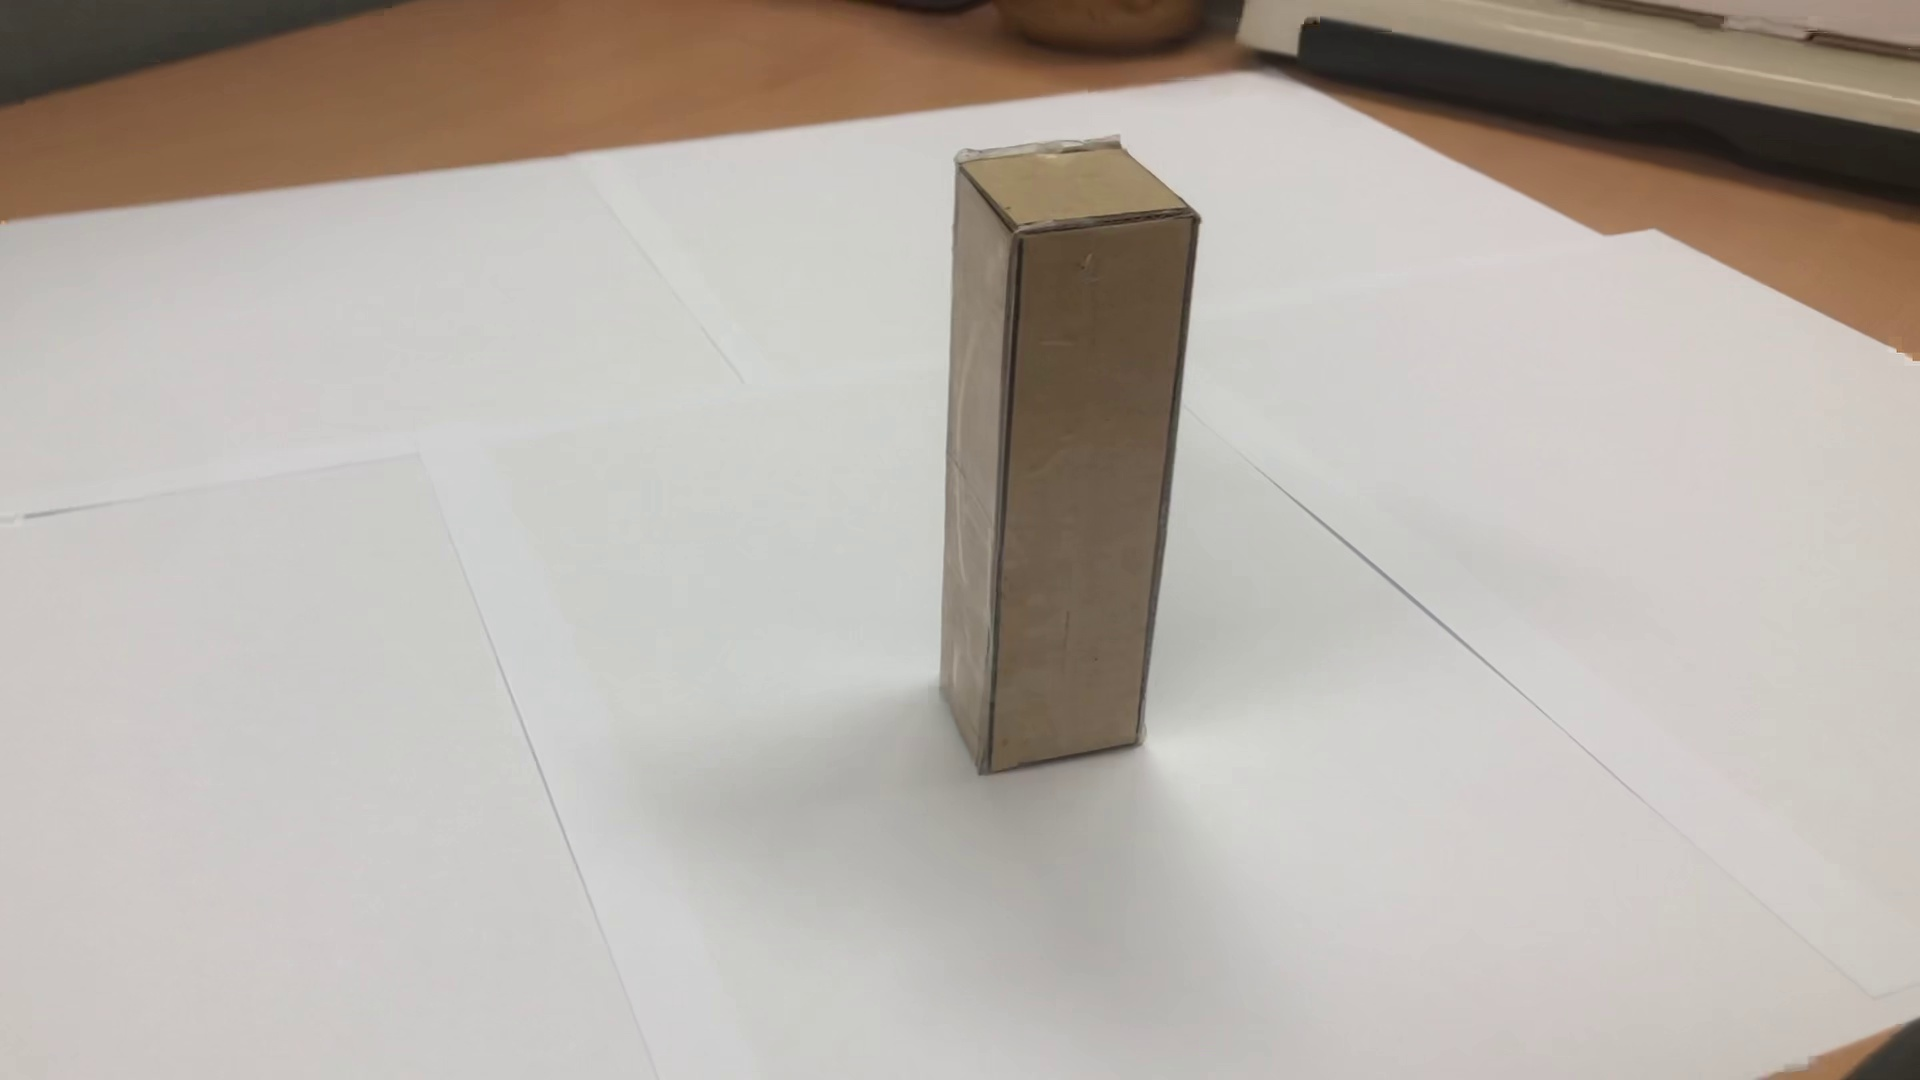box: (922, 109, 1184, 802)
